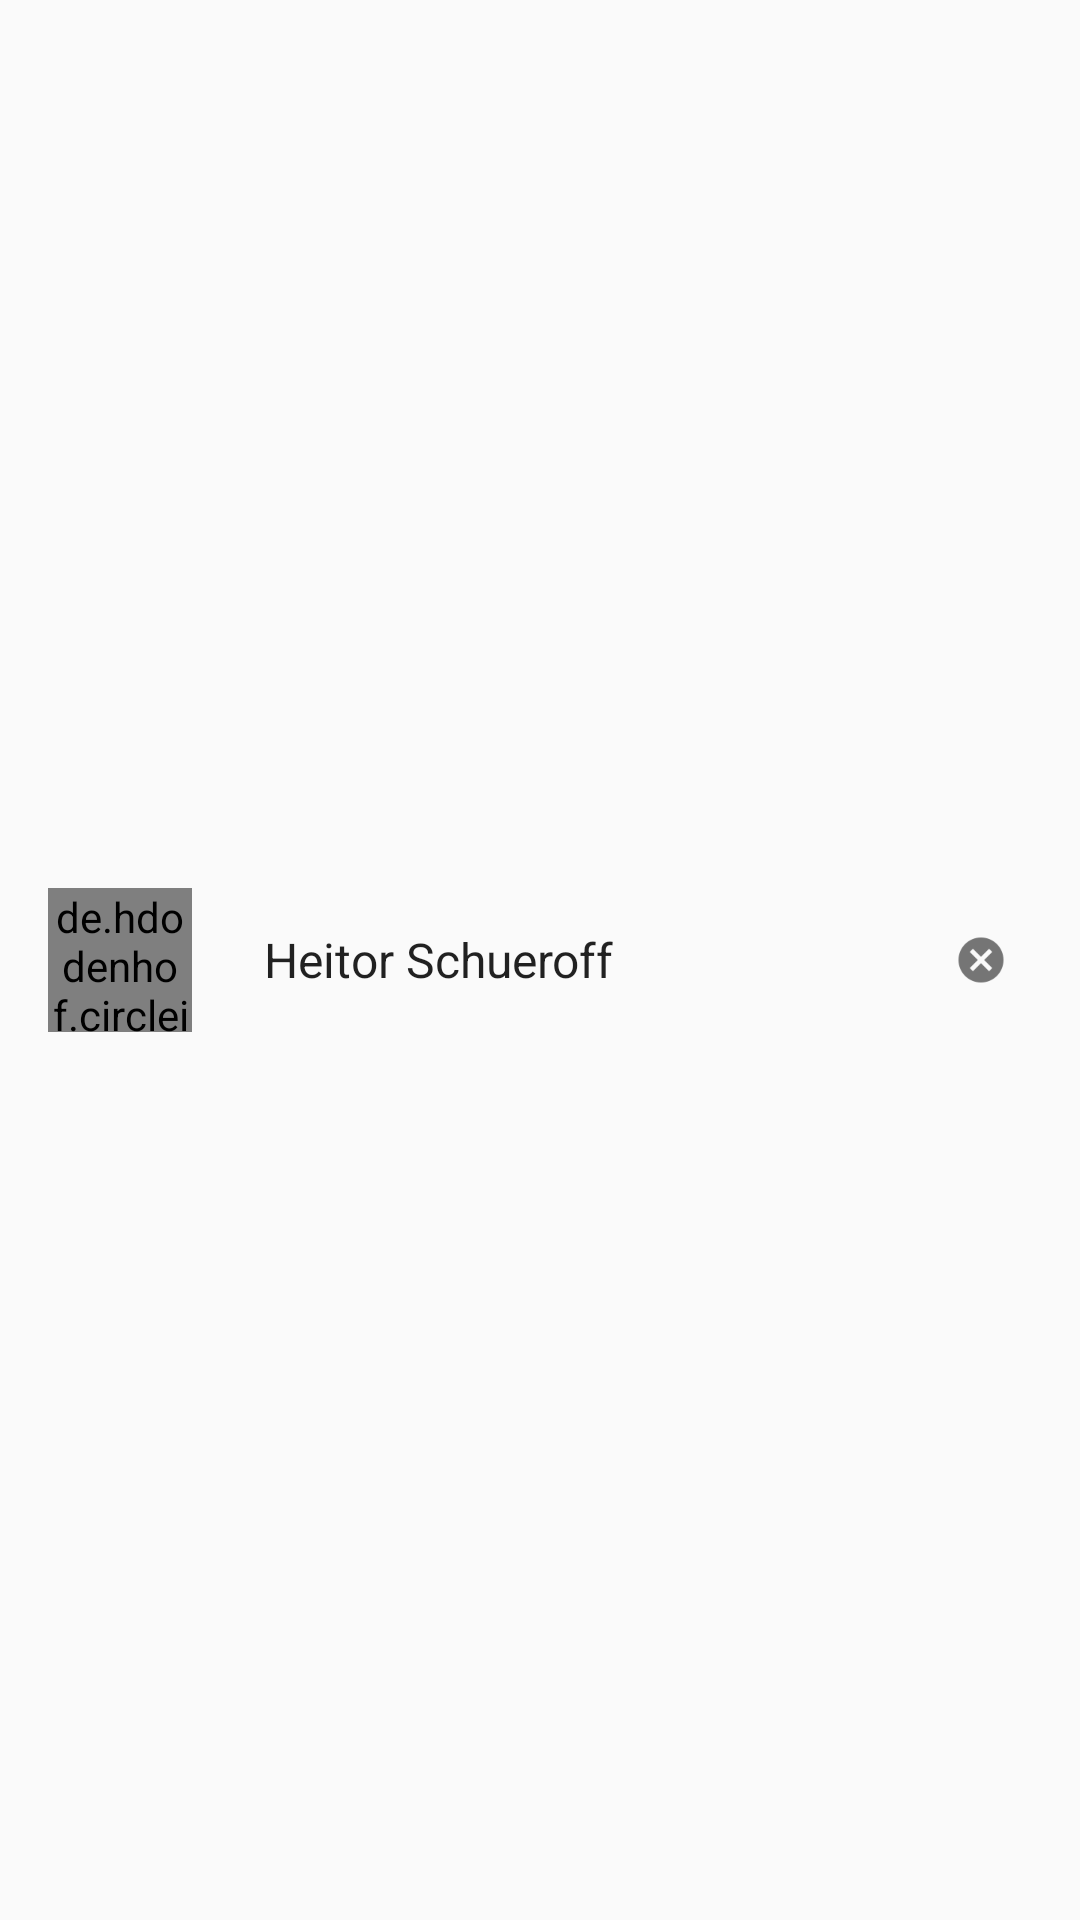

Point at icon controls on the screen. Image size 1080x1920, points as [x,y].
cancel: [981,960]
